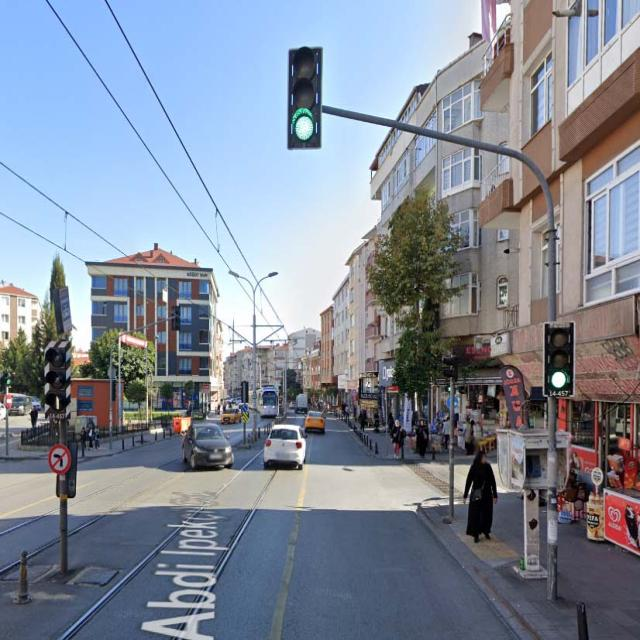soladonulmez: (49, 446, 70, 475)
yesil: (289, 48, 322, 148), (545, 322, 574, 397)
